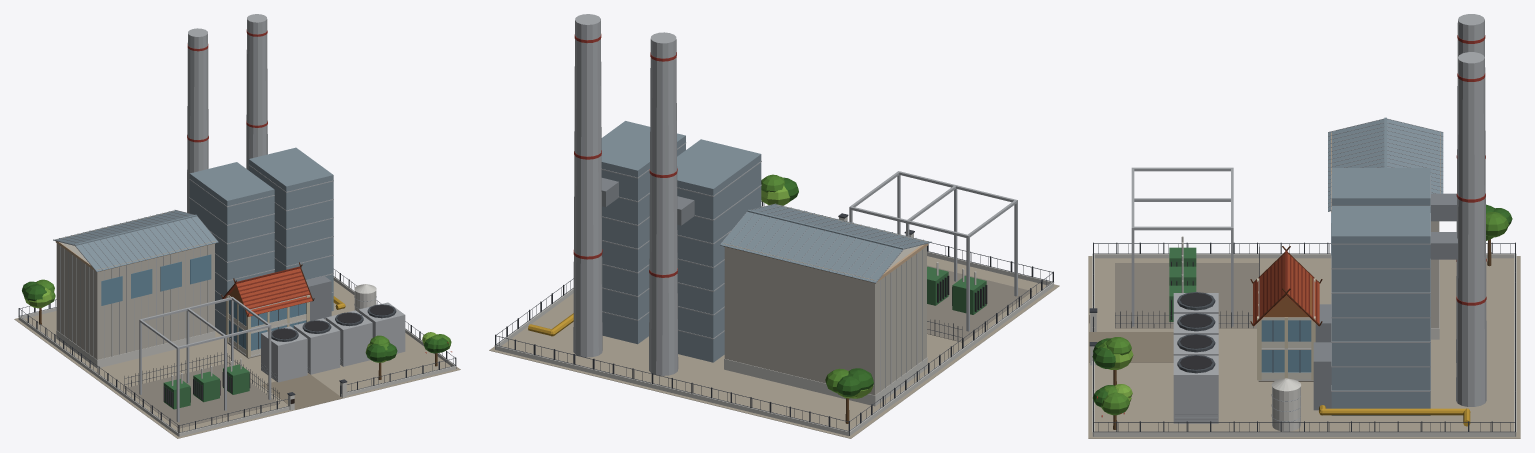
File: power_plant.glb
The picture shows the model from 3 angles, left to right: view 1: azimuth 30°, elevation 25°; view 2: azimuth 150°, elevation 25°; view 3: azimuth 270°, elevation 25°; orthographic projection. The views are drawn at different scales.
Visible parts, largest first — view 1: body; view 2: body; view 3: body.
Boxes of the visible parts, bbox=[...] form: body: bbox=[14, 14, 460, 438]; body: bbox=[489, 14, 1059, 438]; body: bbox=[1088, 14, 1520, 438].
Bounding box in the file's own units: 48.28 × 42.03 × 47.9.
